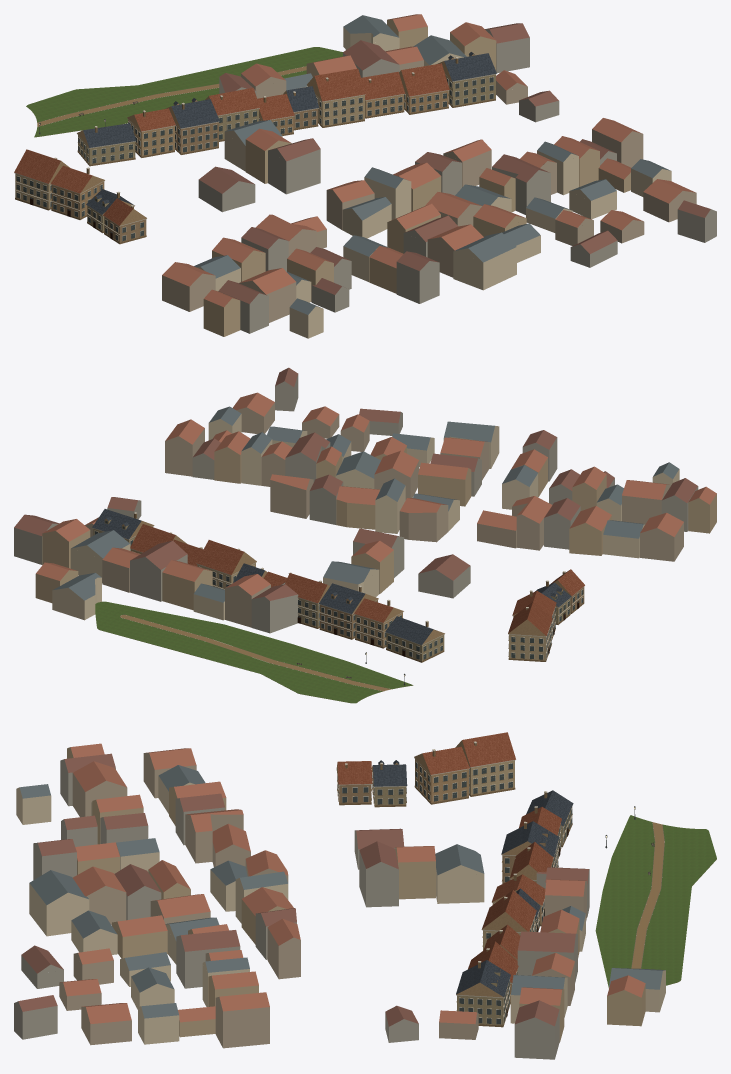
The picture shows the model from 3 angles, top to bottom: view 1: azimuth 30°, elevation 25°; view 2: azimuth 150°, elevation 25°; view 3: azimuth 270°, elevation 25°; orthographic projection. The views are drawn at different scales.
Visible parts, largest first — view 1: C_0_-1; view 2: C_0_-1; view 3: C_0_-1.
Part boxes in pixels (left/top/right/bottom): C_0_-1: left=14, top=14, right=716, bottom=338; C_0_-1: left=14, top=367, right=716, bottom=703; C_0_-1: left=14, top=732, right=716, bottom=1059.
Bounding box in the file's own units: 191 × 15.46 × 197.
27 materials, 13 textured.
